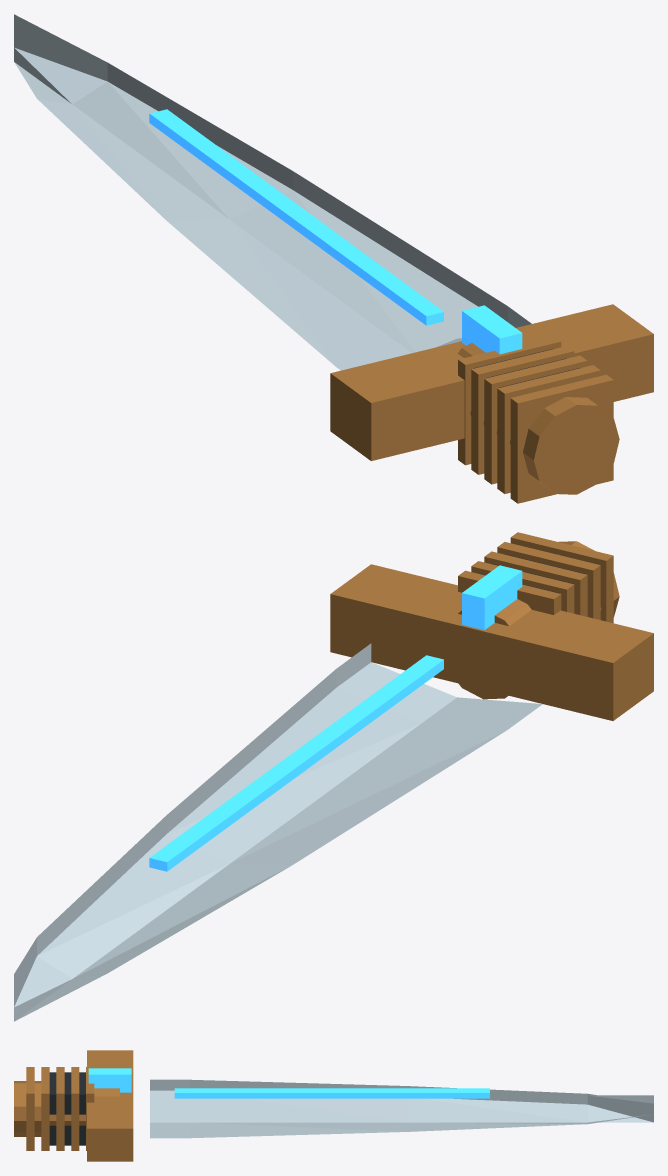
Rendered from oathbreaker_greatsword.glb.
The picture shows the model from 3 angles, top to bottom: view 1: azimuth 30°, elevation 25°; view 2: azimuth 150°, elevation 25°; view 3: azimuth 270°, elevation 25°; orthographic projection. The views are drawn at different scales.
Visible parts, largest first — view 1: Double edged tapered greatblade, Winged crossguard, Runic fuller, Pommel, Grip wire 4, Grip wire 3, Grip wire 1, Grip wire 2, Guard gem, Grip wire 0; view 2: Double edged tapered greatblade, Winged crossguard, Runic fuller, Guard gem, Grip wire 4, Grip wire 3, Grip wire 2, Grip wire 0, Pommel, Grip wire 1; view 3: Double edged tapered greatblade, Winged crossguard, Runic fuller, Pommel, Leather grip, Guard gem, Grip wire 1, Grip wire 2, Grip wire 3, Grip wire 4, Grip wire 0.
Part boxes in pixels (bbox=[...]): Double edged tapered greatblade: bbox=[14, 14, 531, 370]; Winged crossguard: bbox=[330, 304, 653, 460]; Runic fuller: bbox=[149, 109, 443, 325]; Pommel: bbox=[458, 343, 619, 494]; Grip wire 4: bbox=[510, 374, 613, 503]; Grip wire 3: bbox=[497, 365, 600, 493]; Grip wire 1: bbox=[471, 346, 574, 474]; Grip wire 2: bbox=[484, 355, 587, 484]; Guard gem: bbox=[462, 305, 522, 354]; Grip wire 0: bbox=[458, 336, 561, 465]; Double edged tapered greatblade: bbox=[14, 643, 542, 1021]; Winged crossguard: bbox=[330, 564, 653, 720]; Runic fuller: bbox=[149, 655, 443, 871]; Guard gem: bbox=[462, 565, 522, 630]; Grip wire 4: bbox=[510, 532, 613, 623]; Grip wire 3: bbox=[497, 542, 600, 619]; Grip wire 2: bbox=[484, 551, 587, 616]; Grip wire 0: bbox=[458, 570, 561, 614]; Pommel: bbox=[458, 541, 619, 699]; Grip wire 1: bbox=[471, 561, 574, 613]; Double edged tapered greatblade: bbox=[150, 1079, 653, 1138]; Winged crossguard: bbox=[87, 1050, 133, 1161]; Runic fuller: bbox=[174, 1088, 489, 1098]; Pommel: bbox=[14, 1081, 119, 1136]; Leather grip: bbox=[49, 1072, 85, 1145]; Guard gem: bbox=[88, 1068, 131, 1092]; Grip wire 1: bbox=[71, 1067, 79, 1150]; Grip wire 2: bbox=[56, 1067, 64, 1150]; Grip wire 3: bbox=[41, 1067, 49, 1150]; Grip wire 4: bbox=[26, 1067, 34, 1150]; Grip wire 0: bbox=[86, 1067, 94, 1150].
Bounding box in the file's own units: 0.56 × 0.22 × 1.93.
